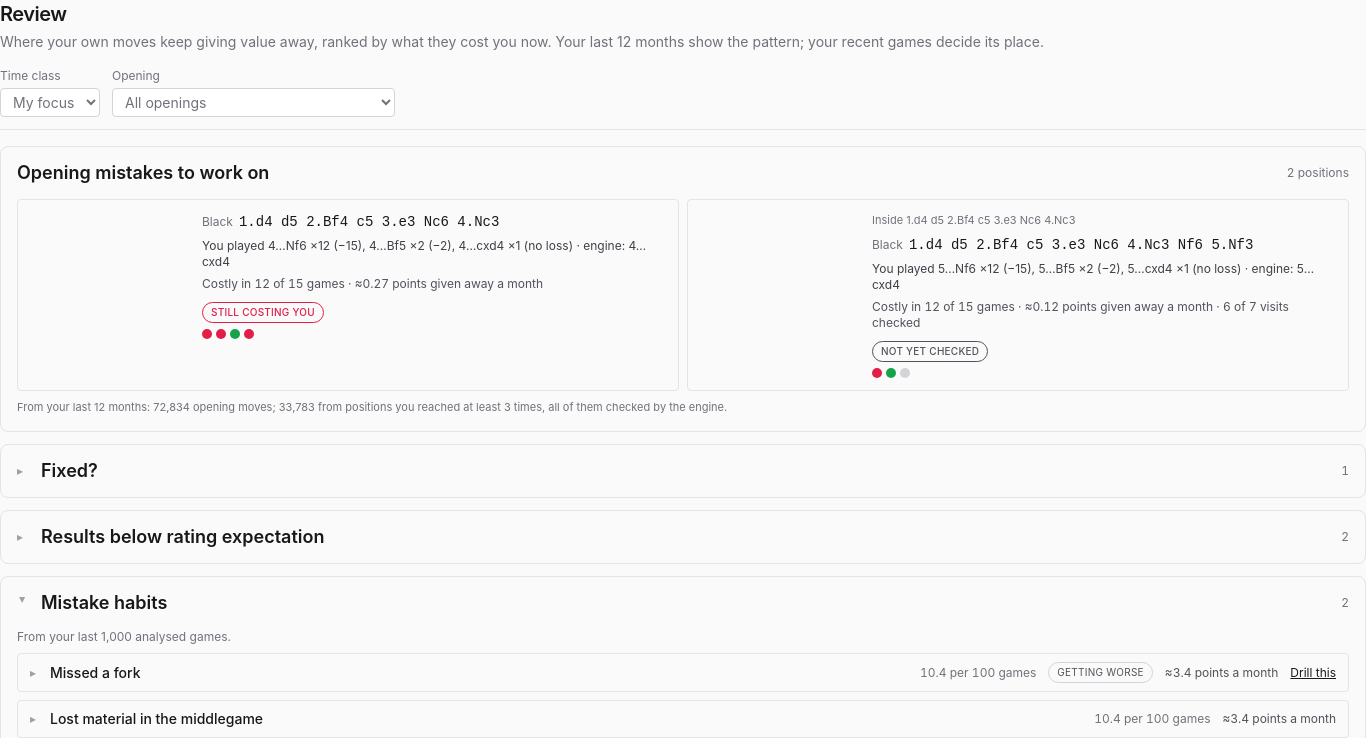
Test case: Review page › Fixed? lists the boards whose last visits were fine, not-reached-lately ones with that chip
Click the button "▸ Fixed? 1" at (69, 470), box [1, 445, 1365, 497]
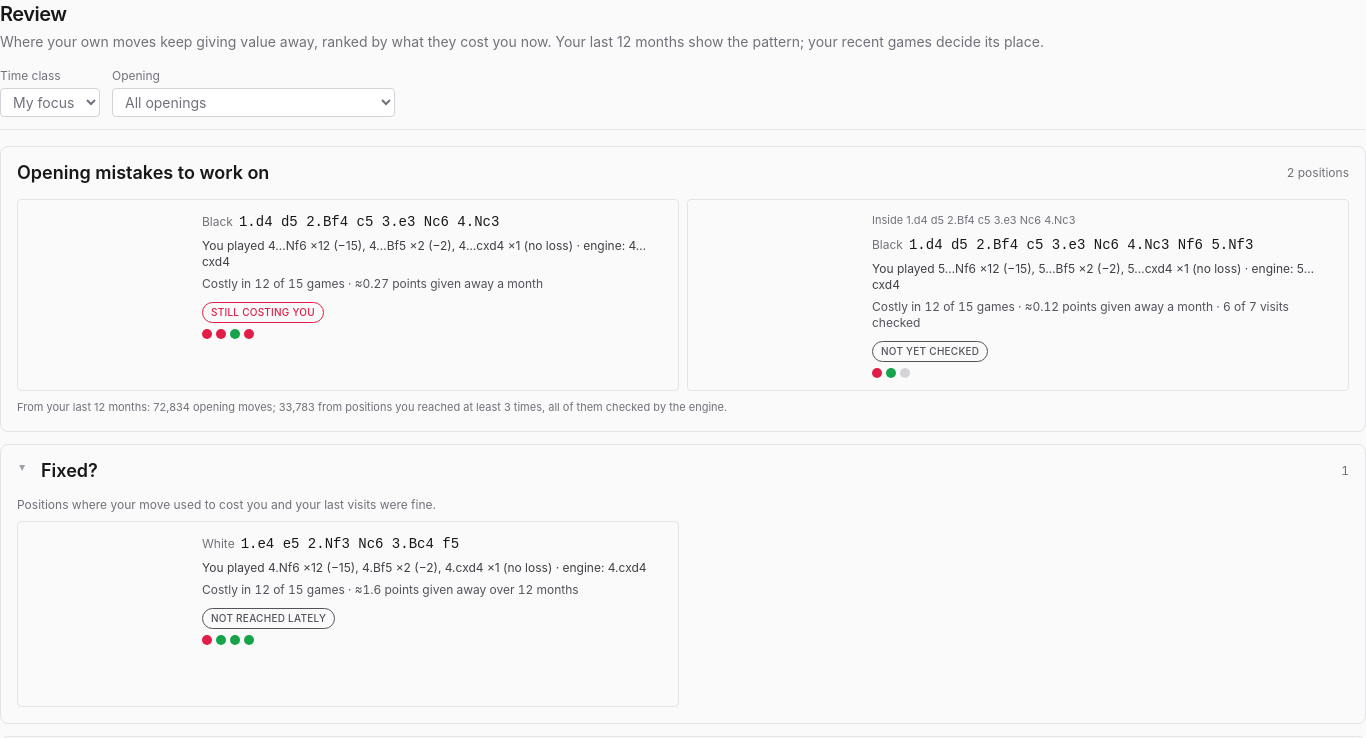
Expected: the link with test id "mistake-card" shows "Not reached lately", [17, 521, 679, 707]
Expected: the link with test id "mistake-card" shows "Costly in 12 of 15 games · ≈1.6 points given away over 12 months", [17, 521, 679, 707]
